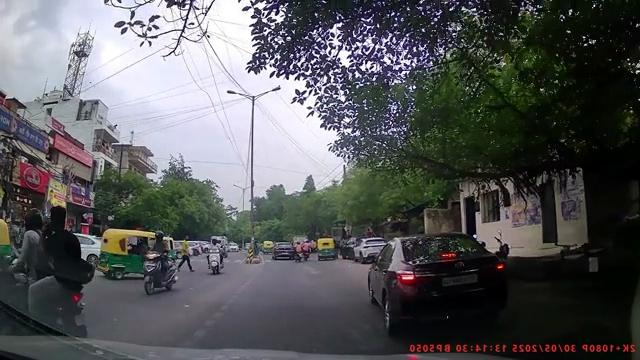motorcycle_with_helmet: (141, 231, 178, 296)
passenger_without_helmet: (1, 205, 94, 335)
